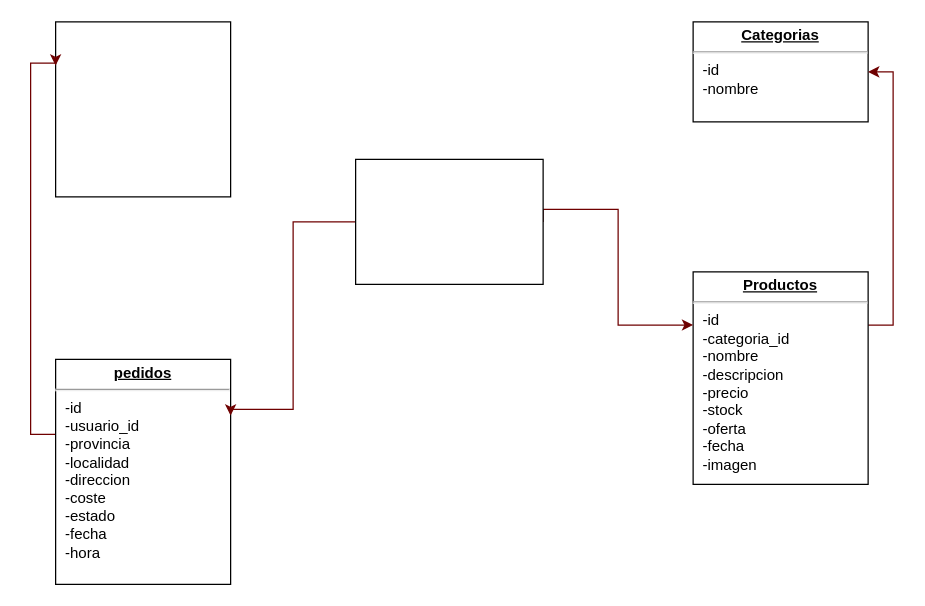
This 925x606 diagram has some shape labels left out. Each missing label, with the centre of its shape:
"LineasPedido -id -pedido_id -producto_id -unidades" belongs at point (448, 221).
"Usuarios -id -nombre -apellidos -email -rol -image" belongs at point (142, 109).
